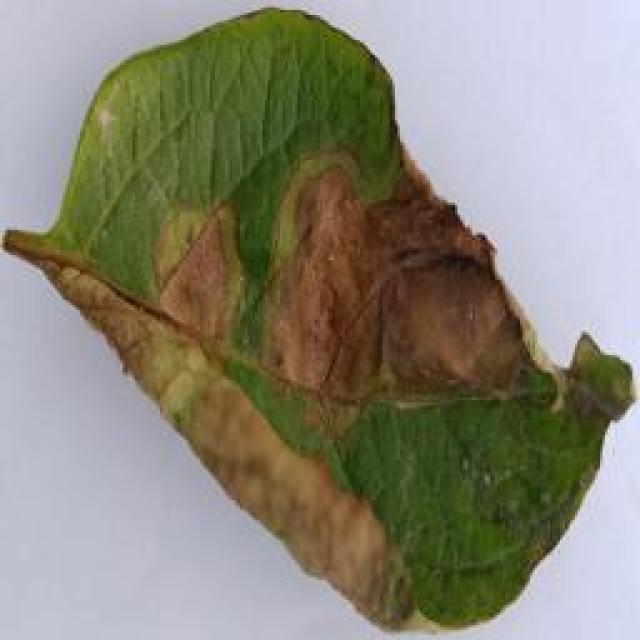Potato_Late_Blight: (14, 16, 622, 621)
